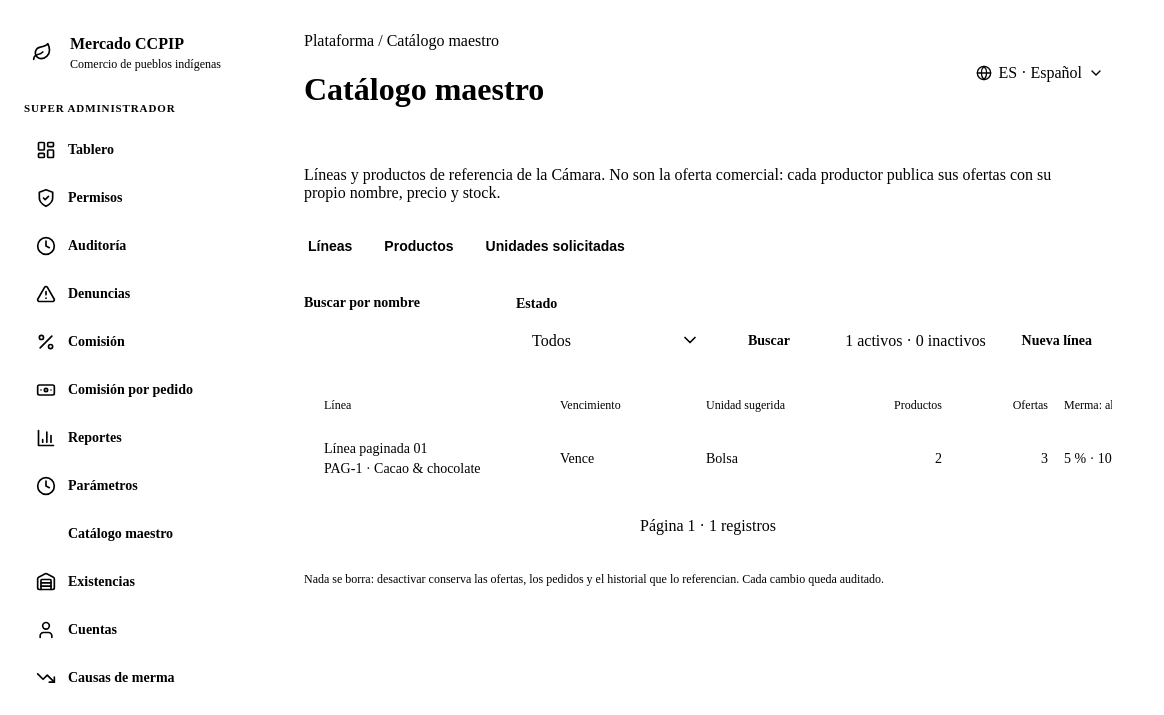
Test: Paginación del catálogo (HU-433) › muestra correctamente los totales de un solo registro y de un catálogo vacío
The image size is (1164, 715).
Expected: the table named "Líneas" is shown, [304,385,1112,493]
Expected: the text "Línea paginada 01" is shown, [324,441,427,456]
Click the tab "Productos" at (419, 247), box [380,226,458,269]
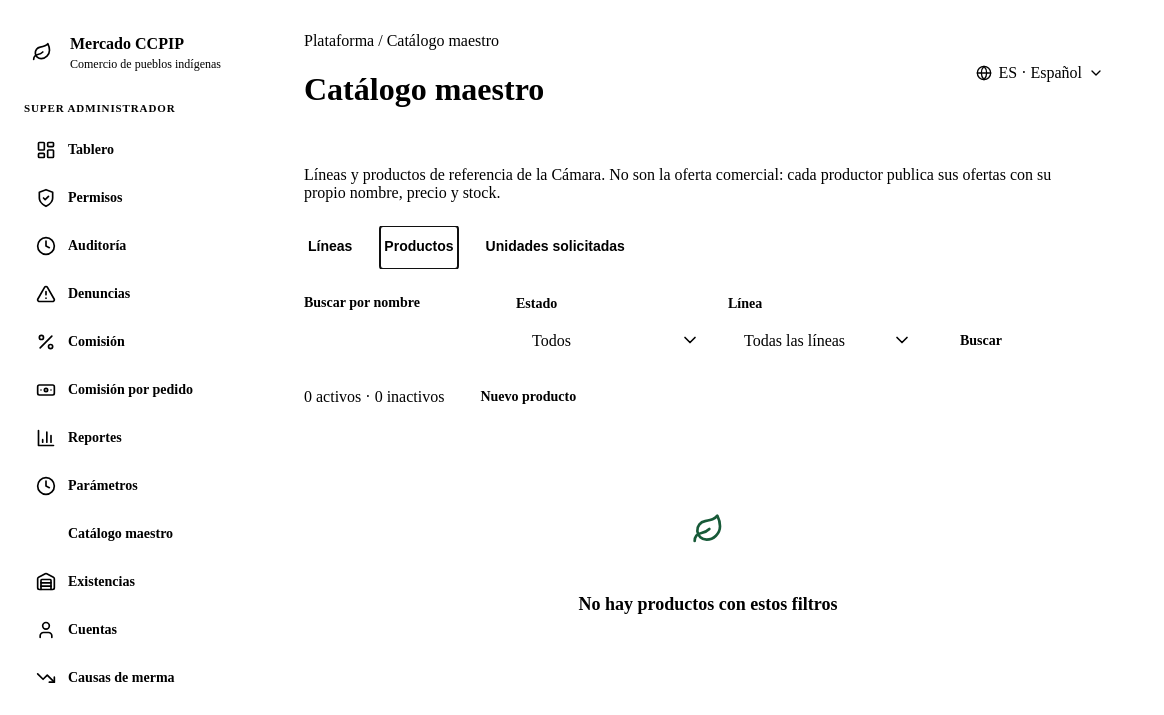
Expected: the text "No hay productos con estos filtros" is shown, [579,591,838,617]
